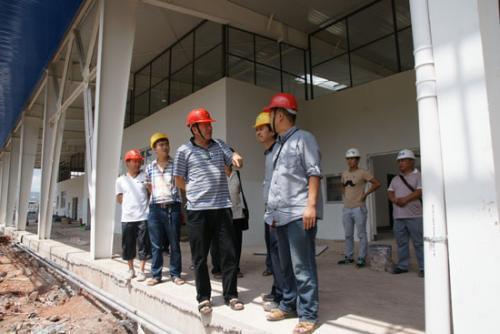helmet: (265, 90, 301, 135), (185, 106, 216, 145), (250, 106, 277, 144), (148, 129, 175, 161), (393, 148, 420, 177), (124, 146, 144, 175), (343, 145, 364, 172)
